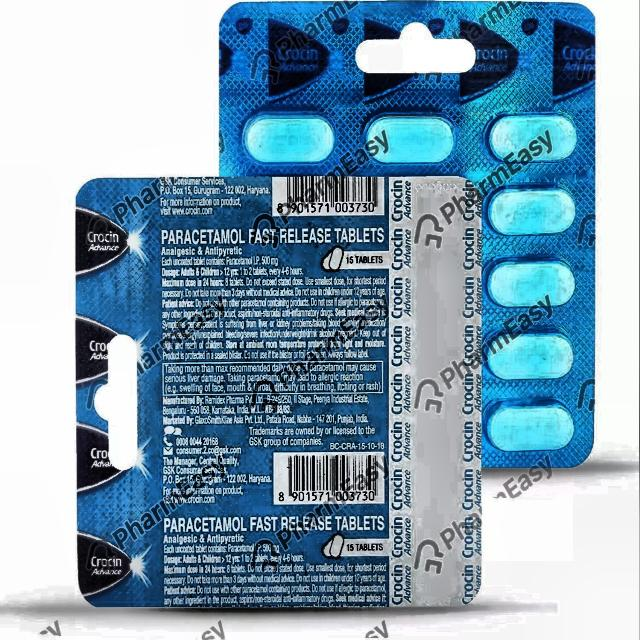Paracetamol: (82, 183, 478, 605)
